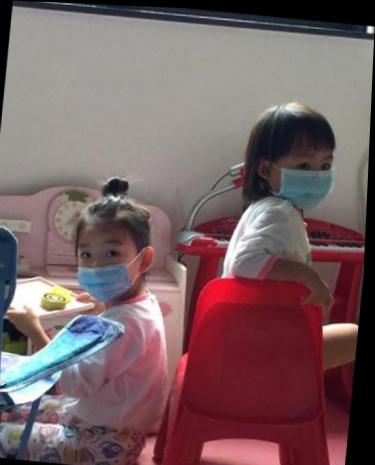OK: (274, 142, 340, 208)
WRONG: (73, 234, 143, 304)
